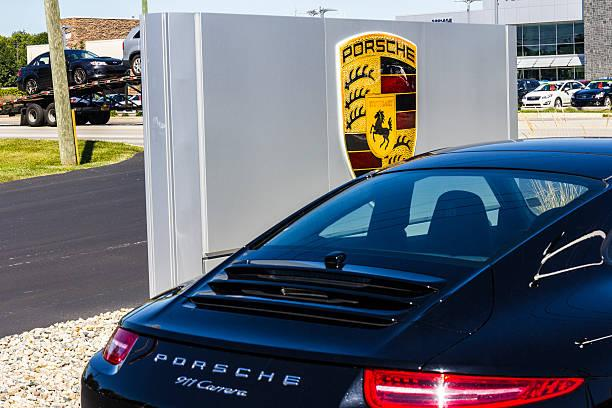porsche: (330, 28, 424, 172), (138, 347, 312, 391)
